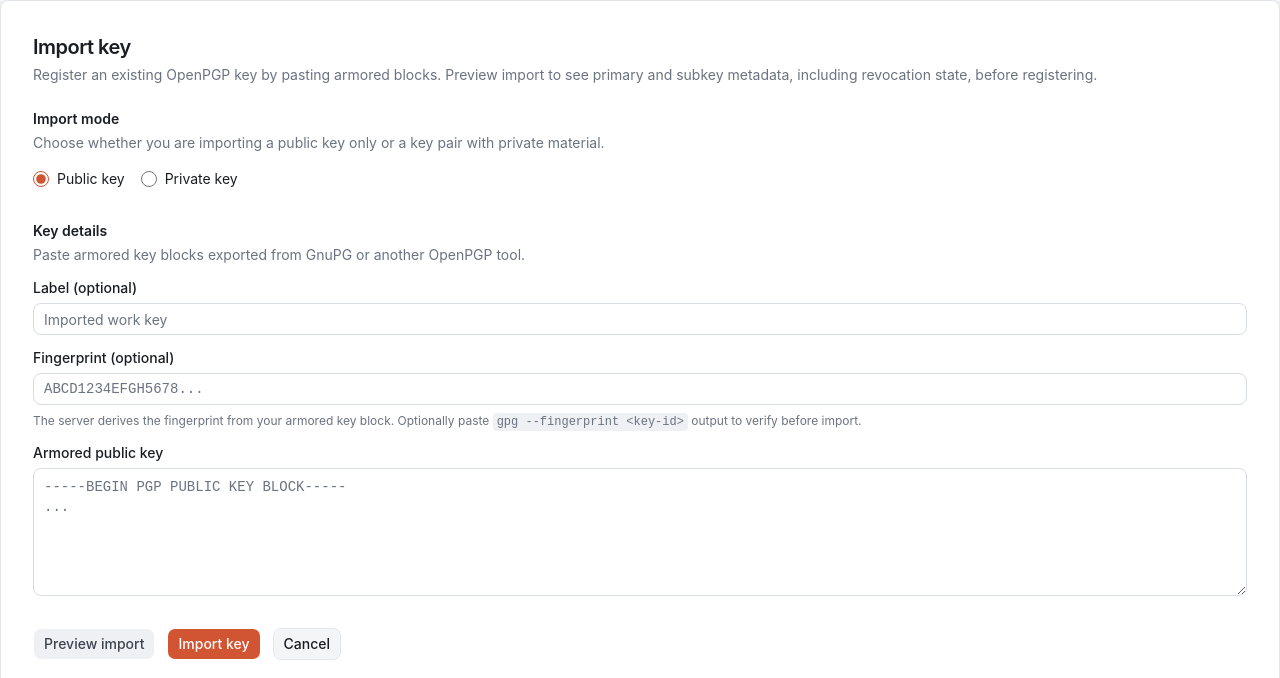
ImportKeyPage › loads preview without registering the key
The image size is (1280, 678).
Type "-----BEGIN PGP PUBLIC KEY BLOCK----- Version: Test mQENBGexample -----END PGP PUBLIC KEY BLOCK-----" into the text box labelled "Armored public key". click: [640, 532]
box: [33,468,1247,596]
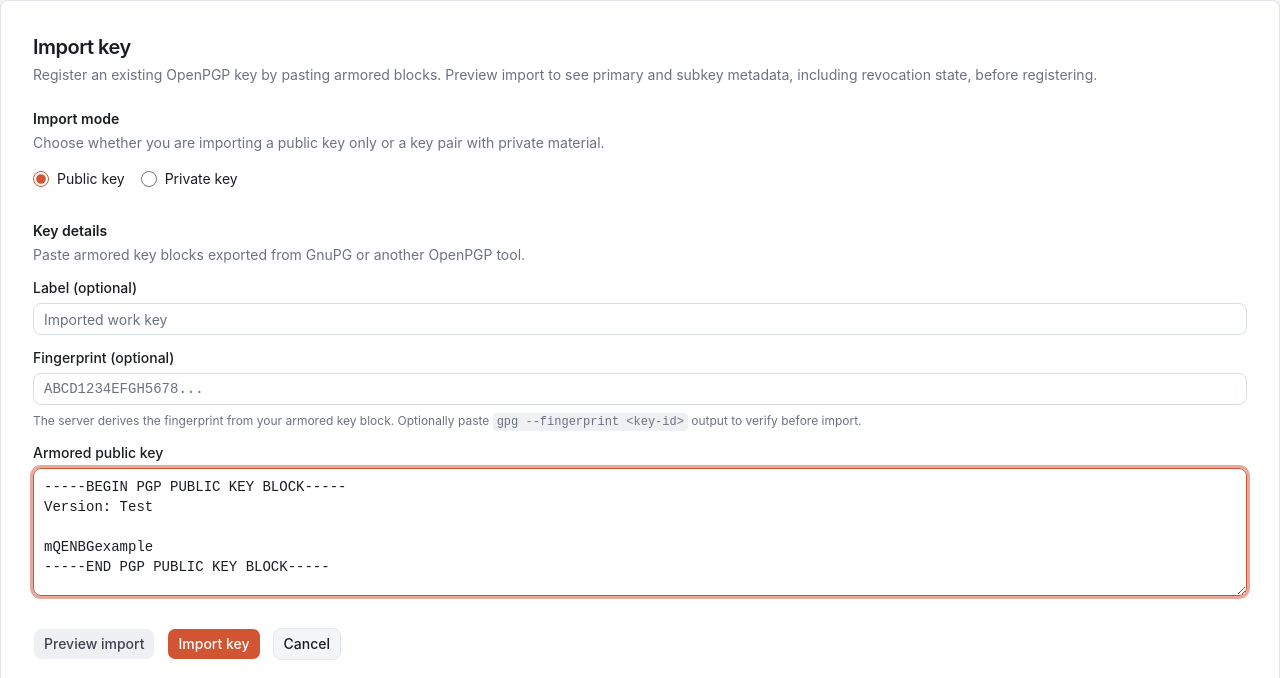
Click the button "Preview import". click: [94, 644]
box: [33,628,156,660]
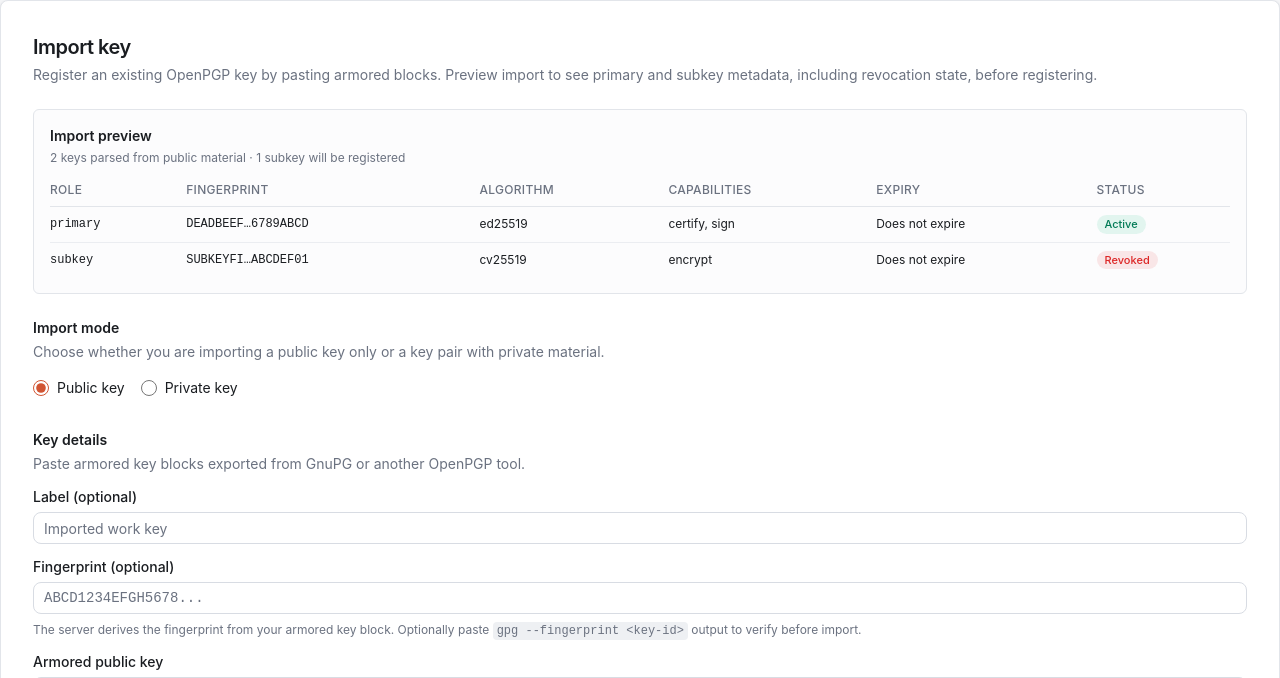
Now the element "Import preview" is shown, box [33,109,1247,294]
Now the text "Revoked" is shown, box [1096,251,1158,269]
